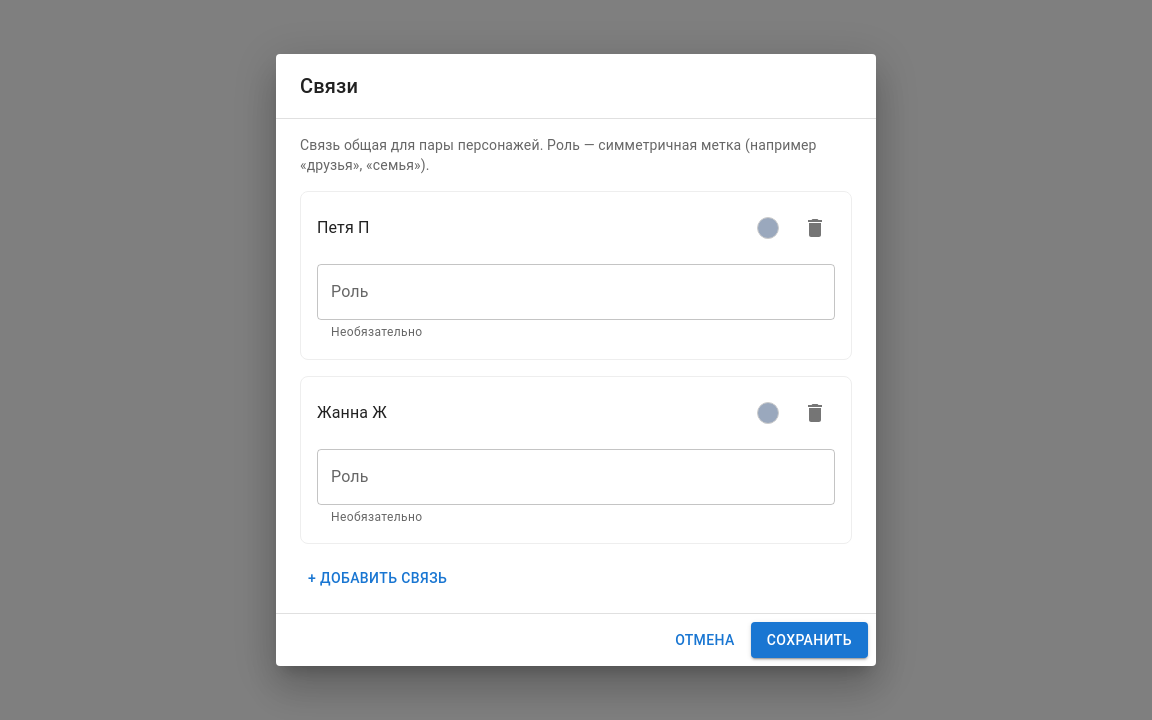
Test case: the add button shows and «Существующий» is disabled when everyone is already connected
Click the button "+ Добавить связь" at {"x": 378, "y": 579}, box [300,560,455,597]
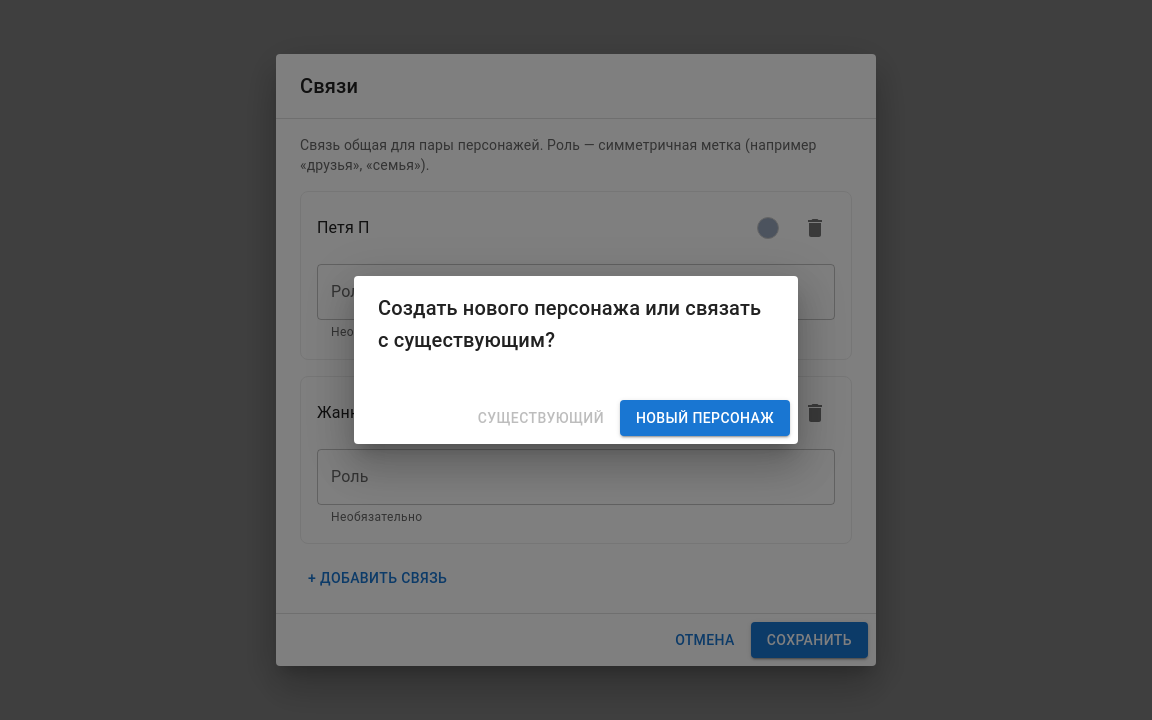
Expected: the button "Существующий" is disabled, [470,400,612,436]
